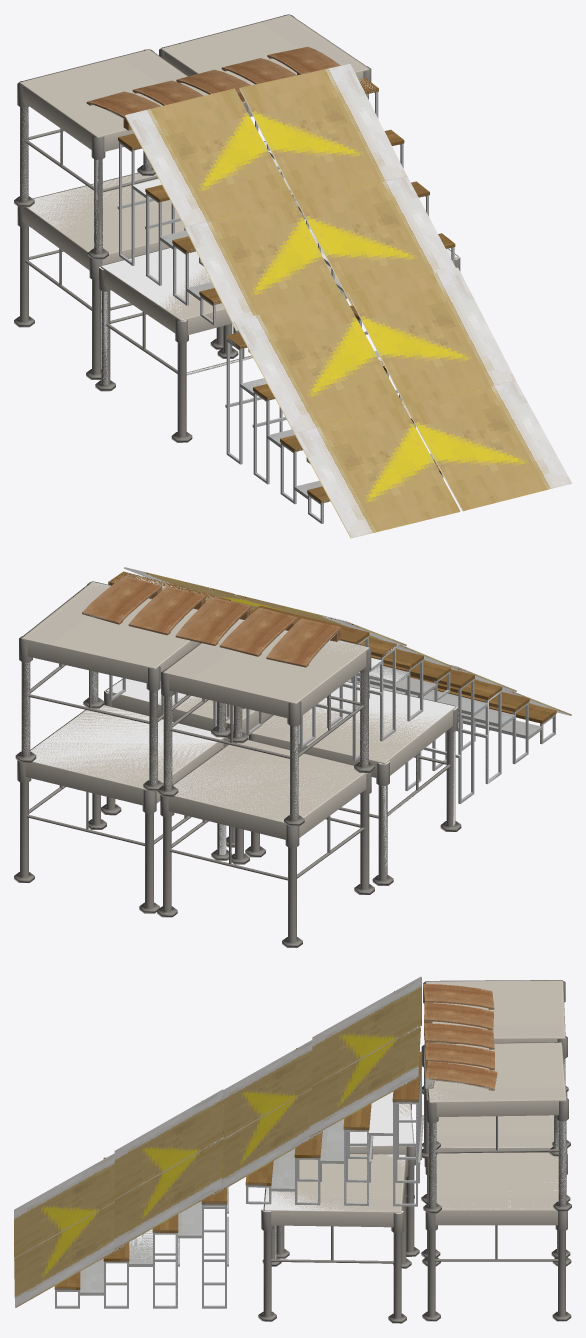
Rendered from objects_un_base_step02.gltf.
3 renders of one model, top to bottom at view 1: azimuth 30°, elevation 25°; view 2: azimuth 150°, elevation 25°; view 3: azimuth 270°, elevation 25°, orthographic. The views are drawn at different scales.
Parts seen in each view (by area): view 1: um_objects_un_base_step02_model_lod0Shape:objects_un_base_st (×6); view 2: um_objects_un_base_step02_model_lod0Shape:objects_un_base_st (×6); view 3: um_objects_un_base_step02_model_lod0Shape:objects_un_base_st (×6).
Part boxes in pixels (x1,y1,x2,y2): um_objects_un_base_step02_model_lod0Shape:objects_un_base_st (×6): (14,14,571,538); um_objects_un_base_step02_model_lod0Shape:objects_un_base_st (×6): (14,567,571,947); um_objects_un_base_step02_model_lod0Shape:objects_un_base_st (×6): (14,976,571,1323).
Size of what is drawn, in the model's own units: 6.31 by 5.37 by 11.58.
6 materials, 5 textured.
